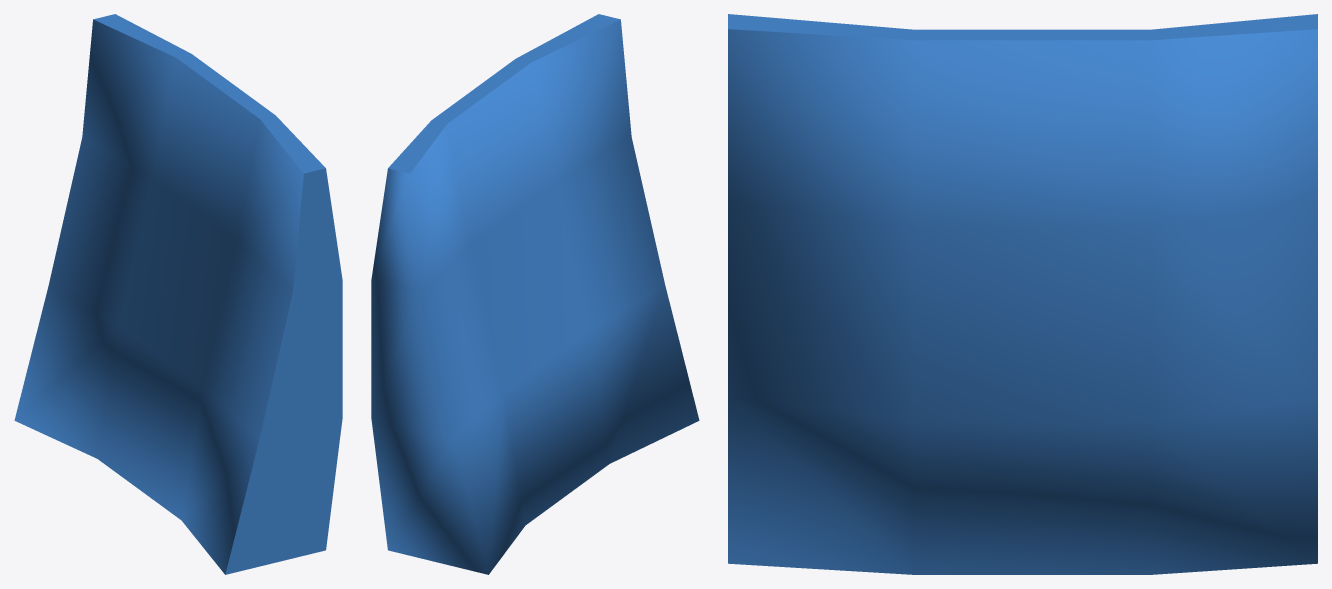
The model's file is Wall.fbx.
The picture shows the model from 3 angles, left to right: view 1: azimuth 30°, elevation 25°; view 2: azimuth 150°, elevation 25°; view 3: azimuth 270°, elevation 25°; orthographic projection. The views are drawn at different scales.
Parts seen in each view (by area): view 1: Cube; view 2: Cube; view 3: Cube.
Part boxes in pixels (x1,y1,x2,y2): Cube: (14,14,342,574); Cube: (371,14,699,574); Cube: (728,14,1317,574).
Size of the model in its own units: 84.91 by 200 by 200.
